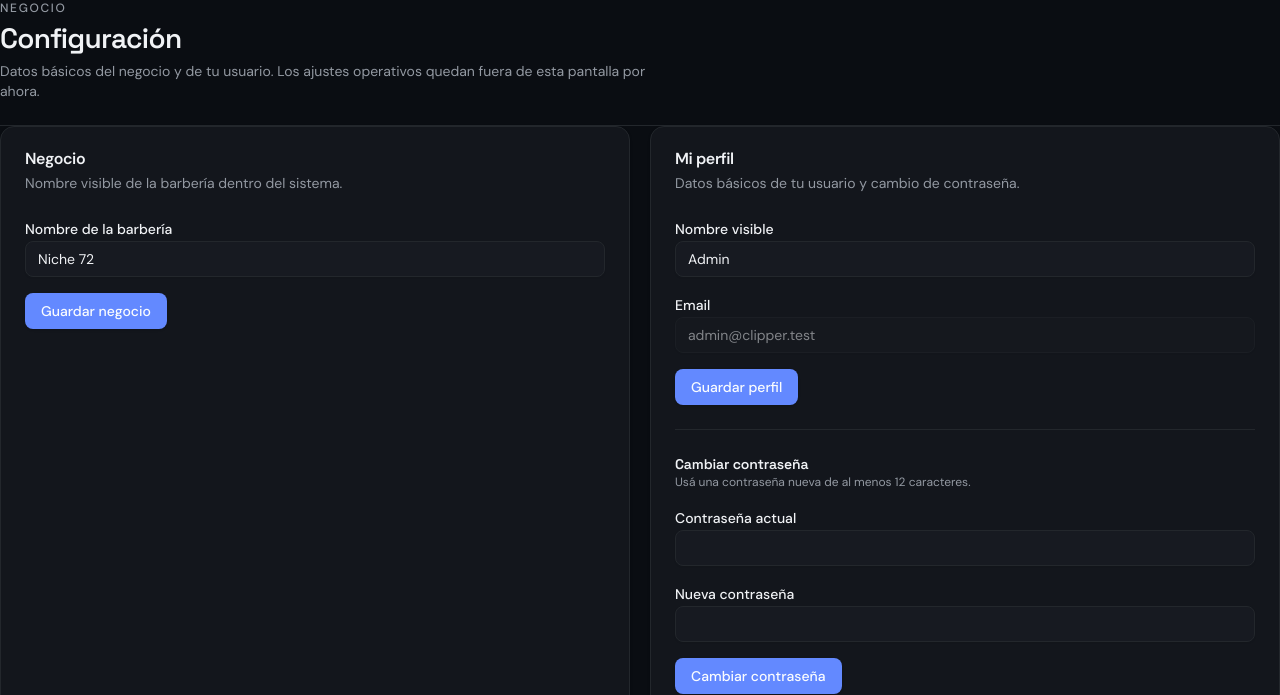
Test case: SettingsView › loads and saves shop and profile settings
The image size is (1280, 695).
expect the field showing "Admin" is shown: met, box [675,241,1255,277]
expect the field showing "admin@clipper.test" is shown: met, box [675,317,1255,353]
Replace the text in the field labelled "Nombre de la barbería" with "Clipper Studio": (315, 259) [25,241,605,277]
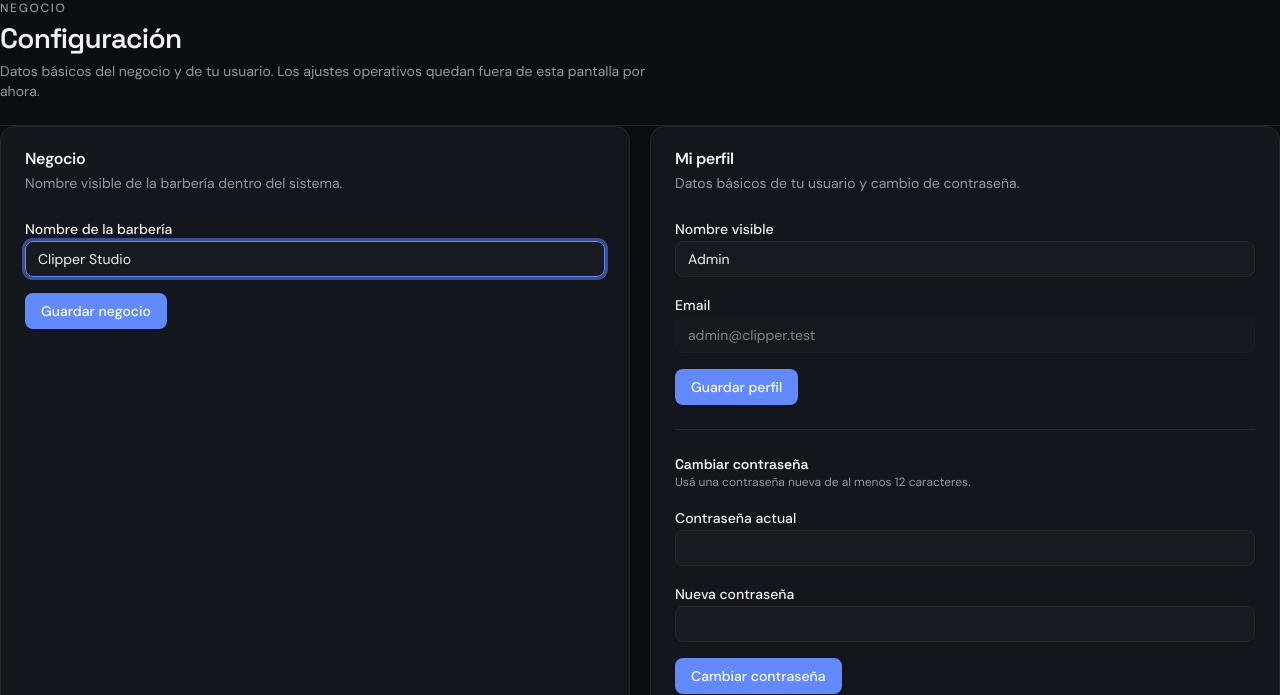
Click the button "Guardar negocio": click(96, 311) [25,293,167,329]
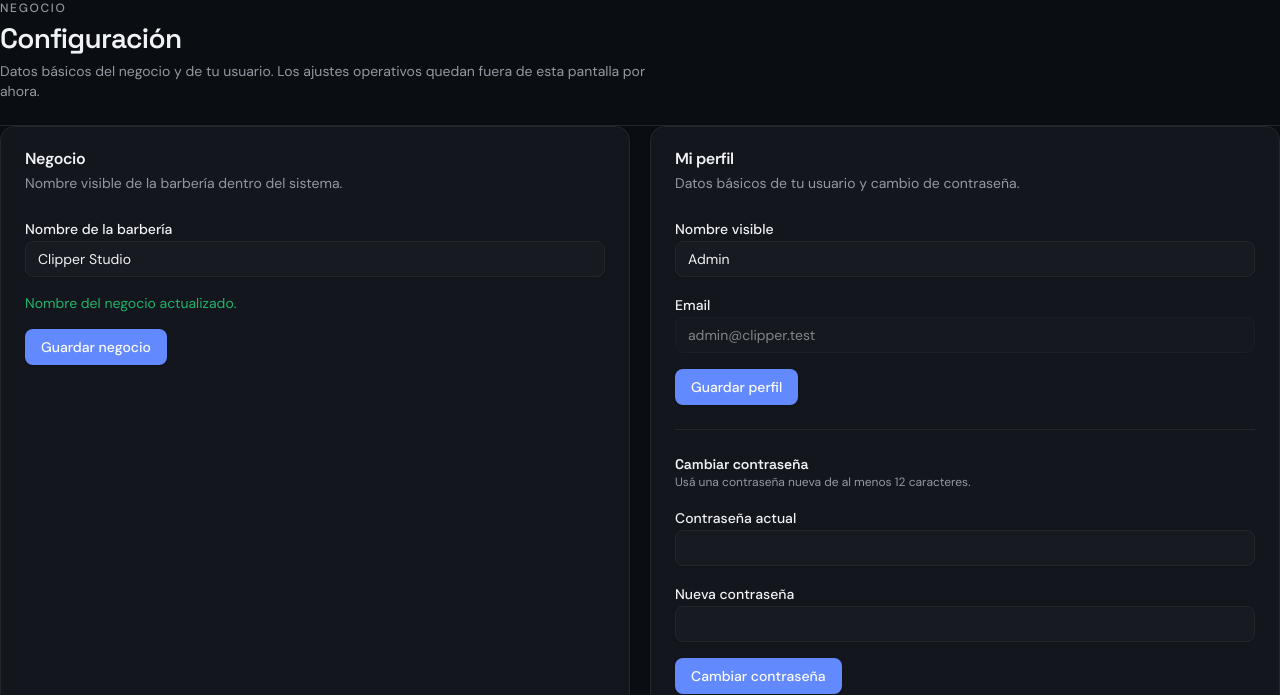
expect the text "Nombre del negocio actualizado." is shown: met, box [25,294,236,312]
Replace the text in the field labelled "Nombre visible" with "Jose": (965, 259) [675,241,1255,277]
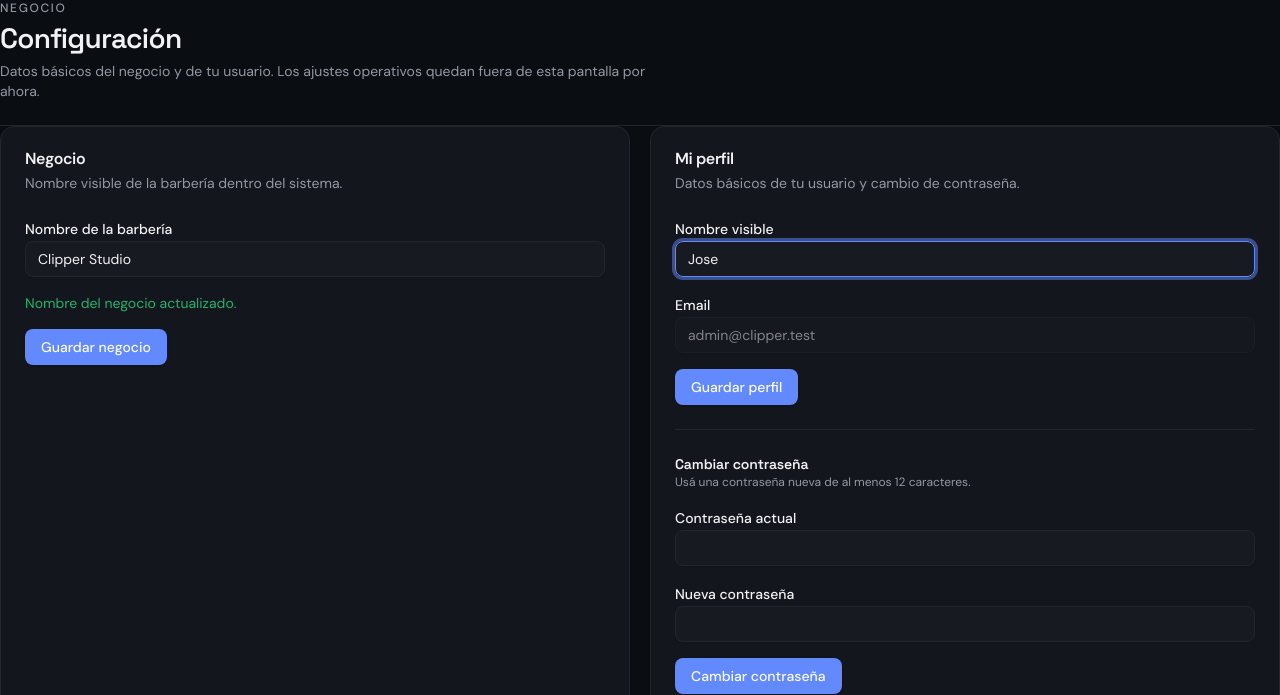
Click the button "Guardar perfil": click(737, 387) [675,369,798,405]
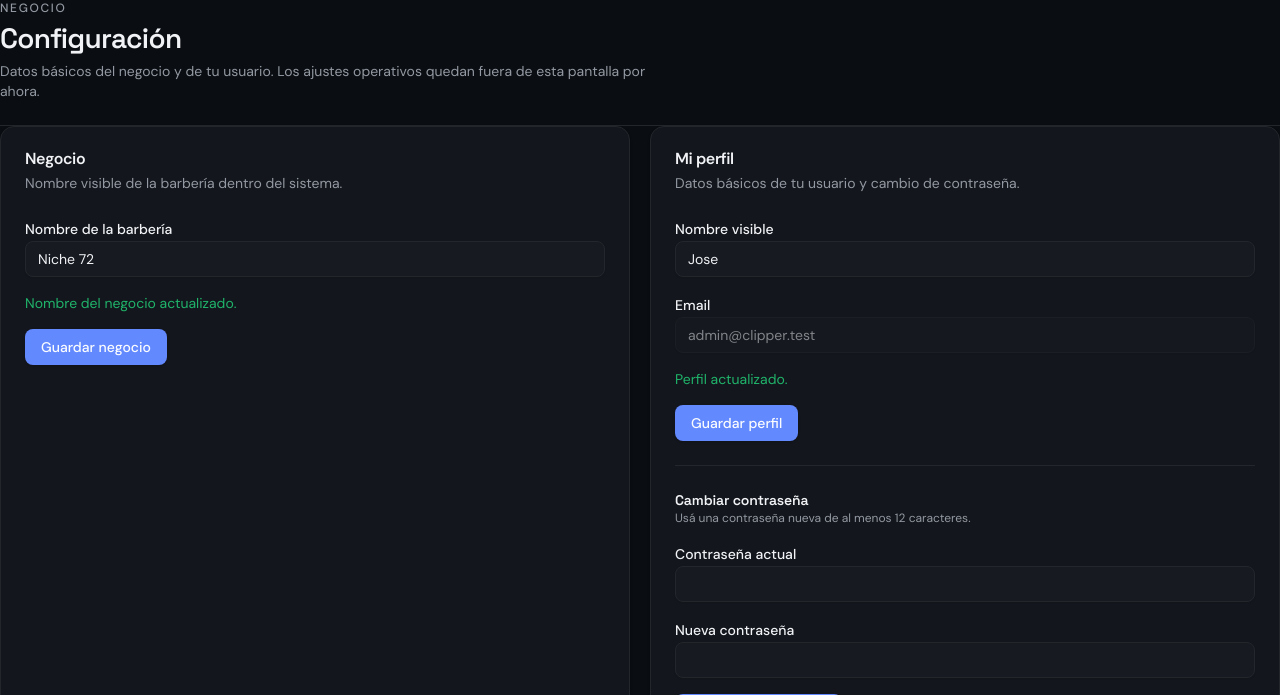
expect the text "Perfil actualizado." is shown: met, box [675,370,788,388]
